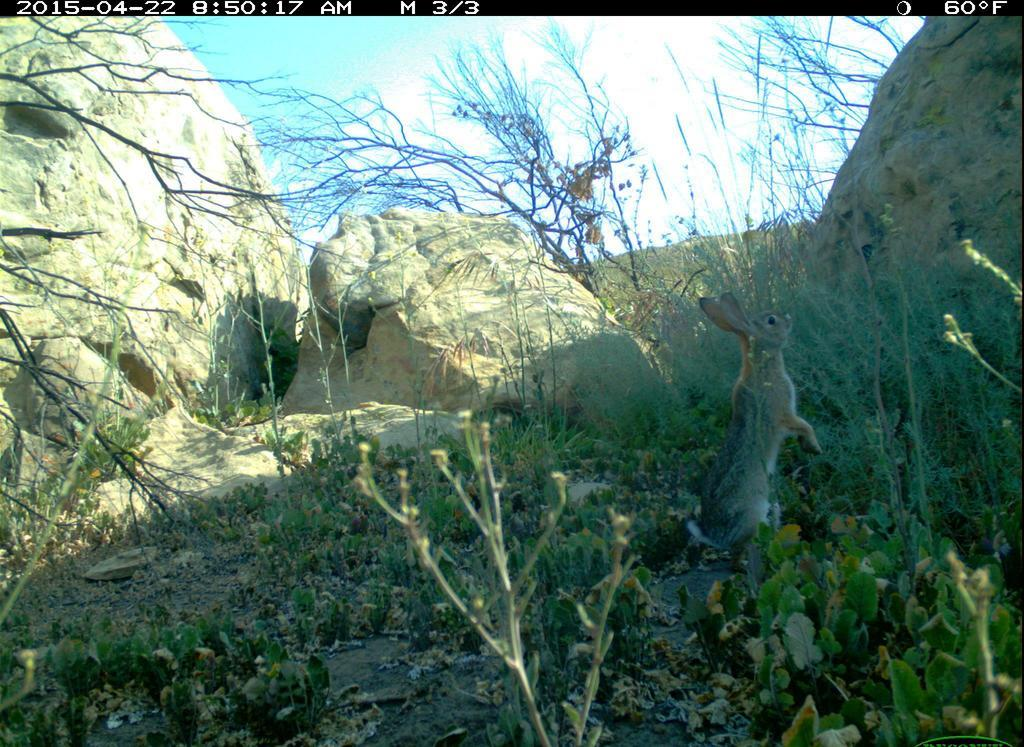rabbit: (674, 289, 833, 582)
